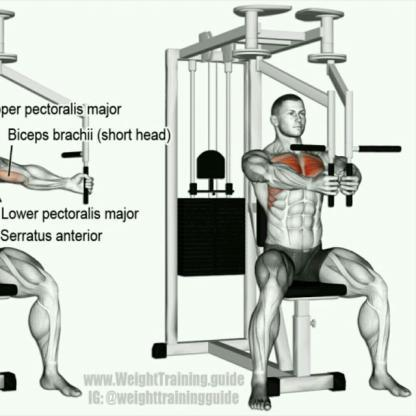chest fly machine: (148, 3, 416, 415)
